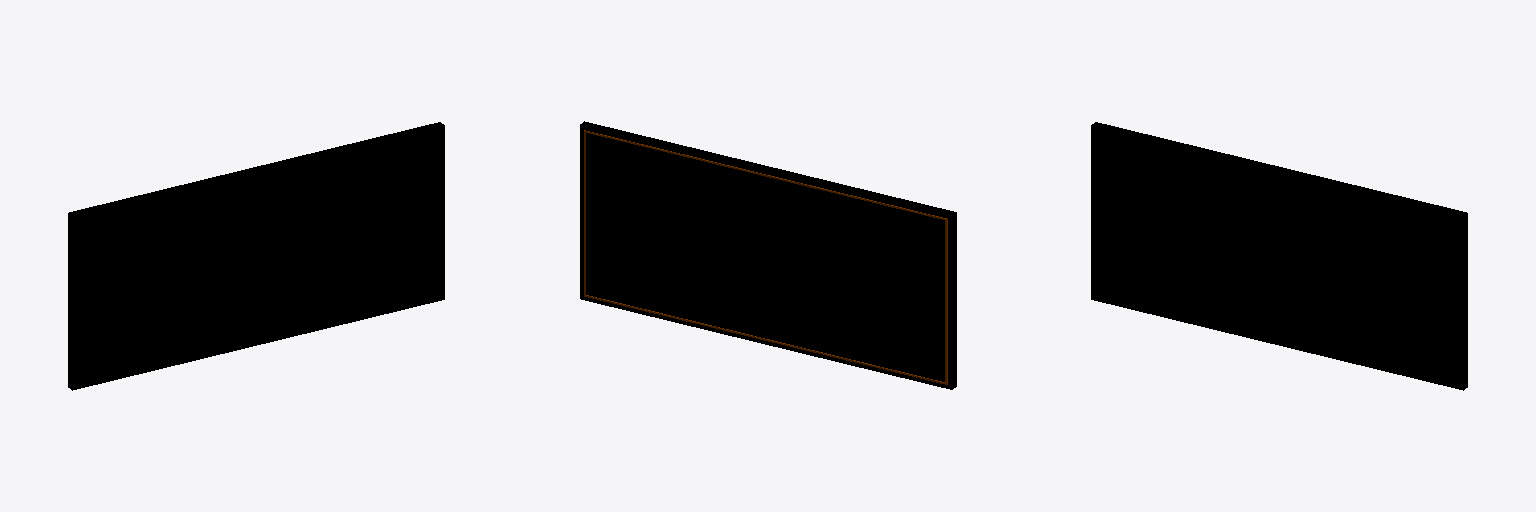
File: picture.obj
The picture shows the model from 3 angles: view 1: azimuth 30°, elevation 25°; view 2: azimuth 150°, elevation 25°; view 3: azimuth 330°, elevation 25°; orthographic projection.
Visible parts, largest first — view 1: picture.001; view 2: picture.001; view 3: picture.001.
Part boxes in pixels (x1,y1,x2,y2): picture.001: (68, 122, 444, 390); picture.001: (580, 121, 956, 389); picture.001: (1091, 122, 1467, 390).
Size of the model in its own units: 5.14 by 2.3 by 0.1212.